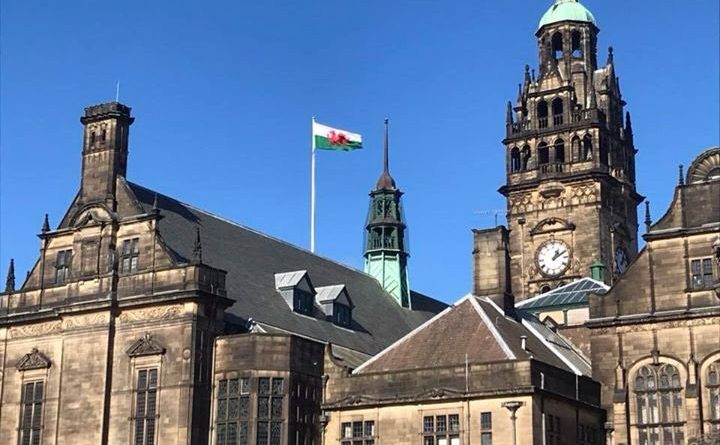Flag: (305, 114, 371, 157)
